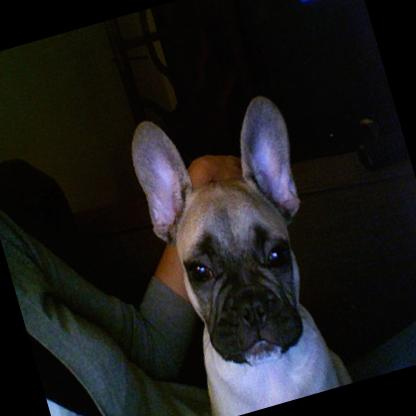French_bulldog: (120, 81, 359, 416)
